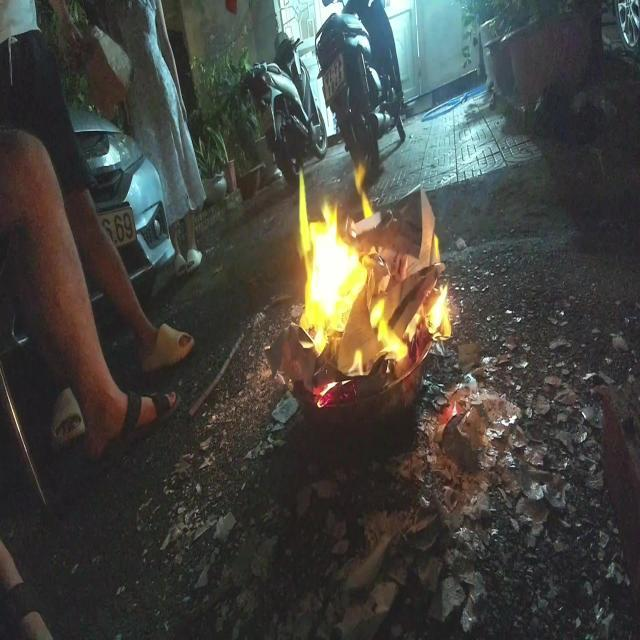Fire: (295, 166, 452, 374)
